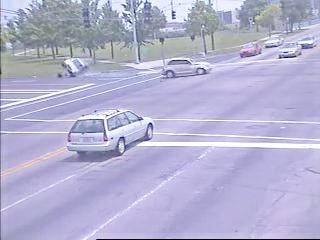Car: (68, 109, 156, 155), (163, 57, 211, 78), (63, 57, 87, 79), (278, 42, 302, 58), (240, 43, 262, 57), (297, 35, 317, 49), (263, 35, 284, 48)
Major Accident: (60, 54, 214, 81)
